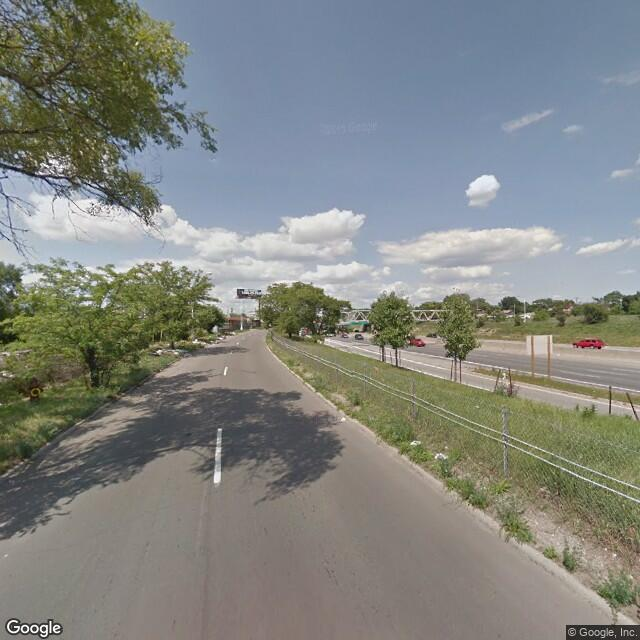litter: (434, 450, 451, 463), (407, 436, 423, 446), (339, 413, 346, 423), (157, 348, 163, 355), (174, 348, 180, 354), (191, 338, 200, 342)
